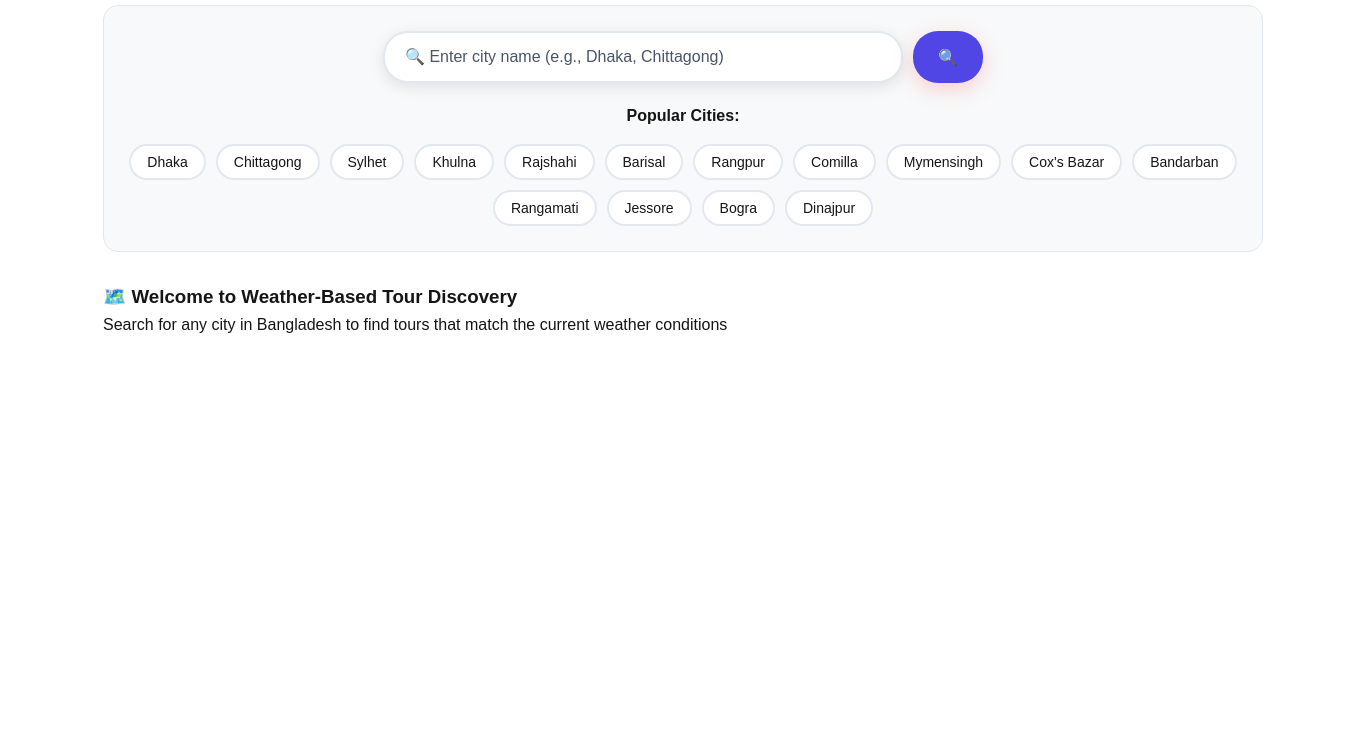
Test: WeatherSuggestion › selects a popular city without typing it
Click the button "Sylhet": (367, 162) top-left (330, 144), bottom-right (404, 180)
(page scrolled)
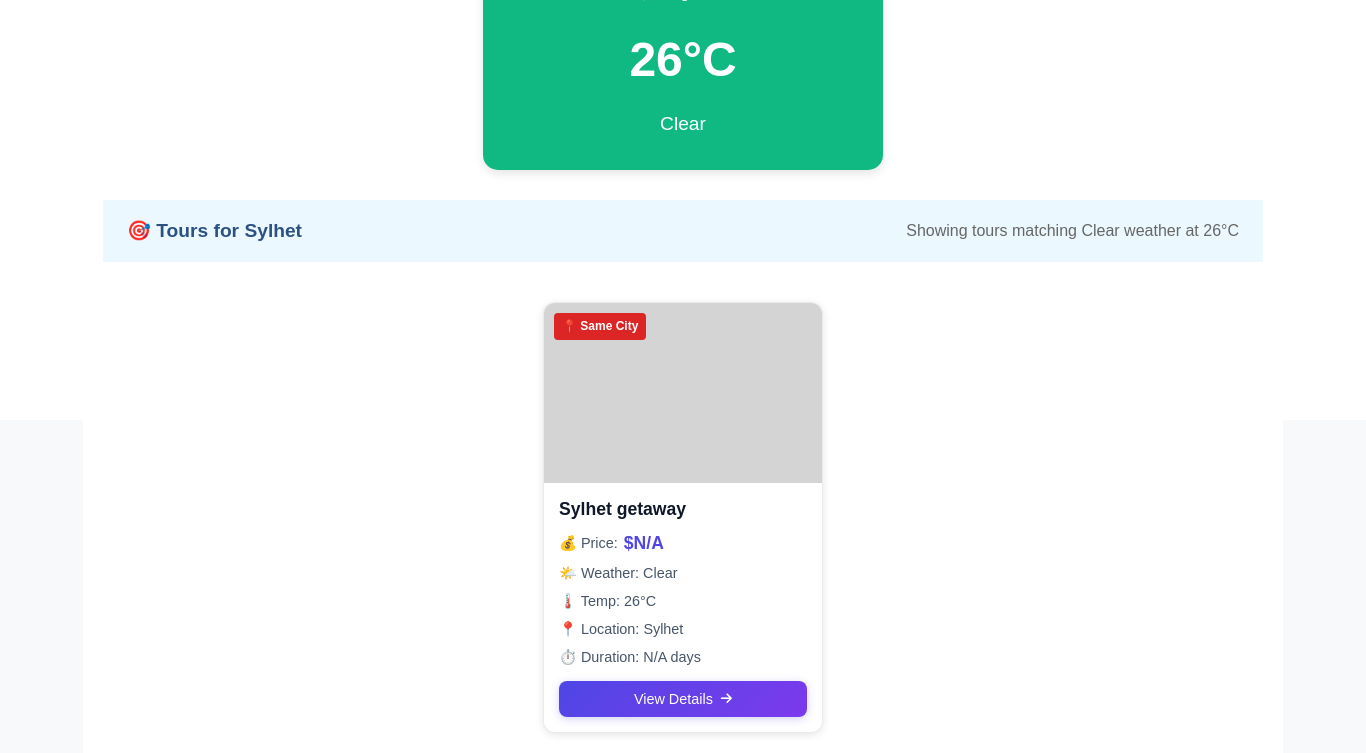
Expected: the heading "Sylhet getaway" is shown, top-left (559, 499), bottom-right (686, 519)
